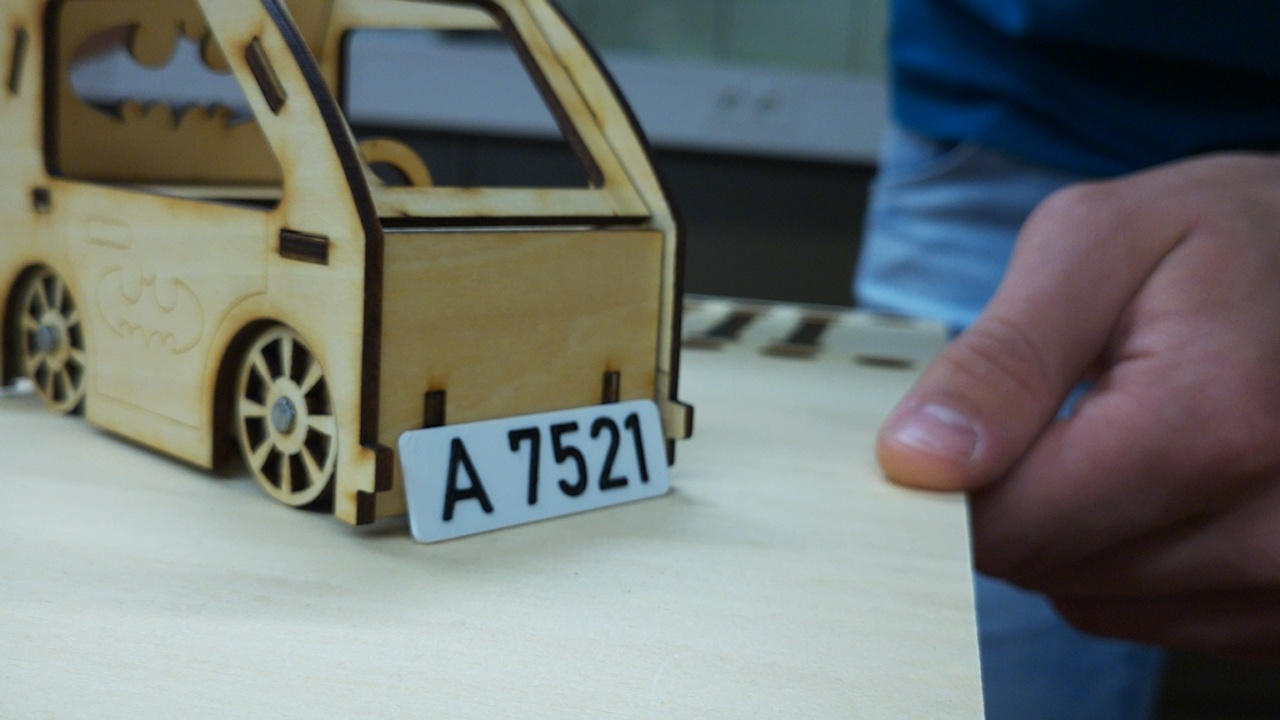license_plate: (396, 397, 674, 544)
